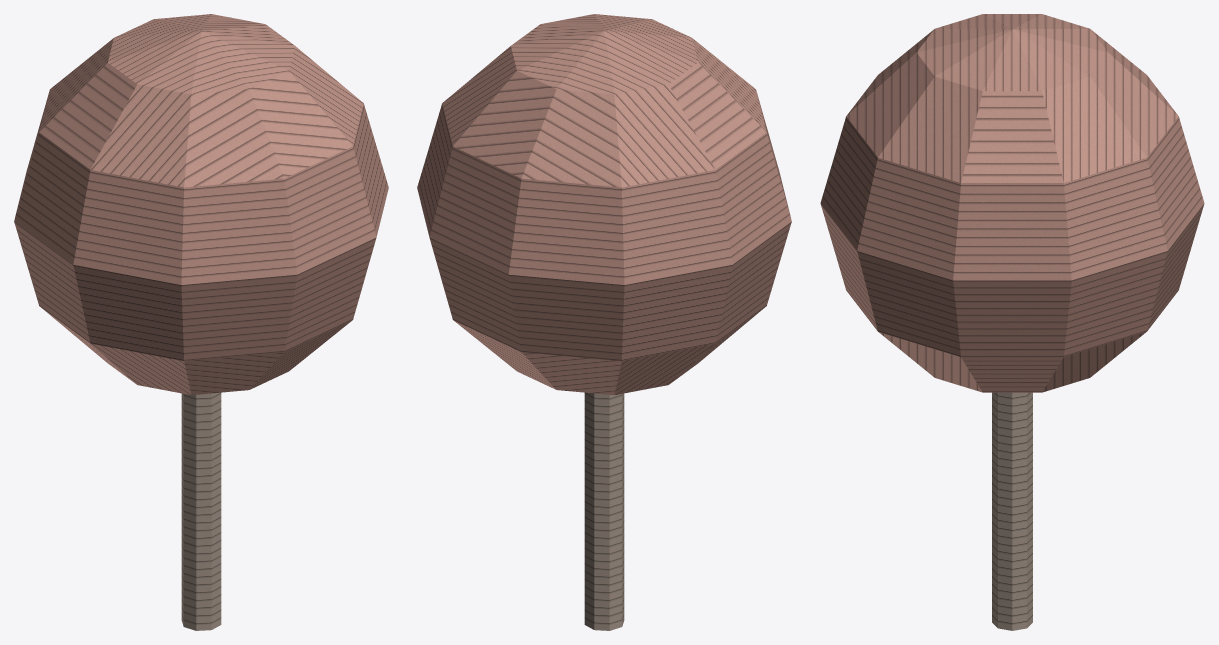
The model's file is tree_american_elm_legacy.glb.
3 views of the same model, side by side, from view 1: azimuth 30°, elevation 25°; view 2: azimuth 150°, elevation 25°; view 3: azimuth 270°, elevation 25° (orthographic).
Visible parts, largest first — view 1: tree_american_elm_legacy-col; view 2: tree_american_elm_legacy-col; view 3: tree_american_elm_legacy-col.
Boxes of the visible parts, left/top/right/bottom form: tree_american_elm_legacy-col: left=14, top=14, right=388, bottom=630; tree_american_elm_legacy-col: left=417, top=14, right=791, bottom=630; tree_american_elm_legacy-col: left=820, top=14, right=1204, bottom=630.
Size of the model in its own units: 5.33 by 9.54 by 5.6.
2 materials, 2 textured.
